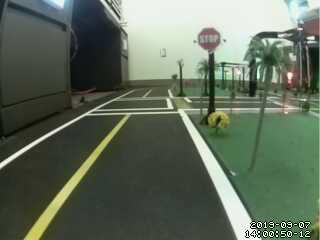Stop_Sign: (192, 21, 231, 54)
